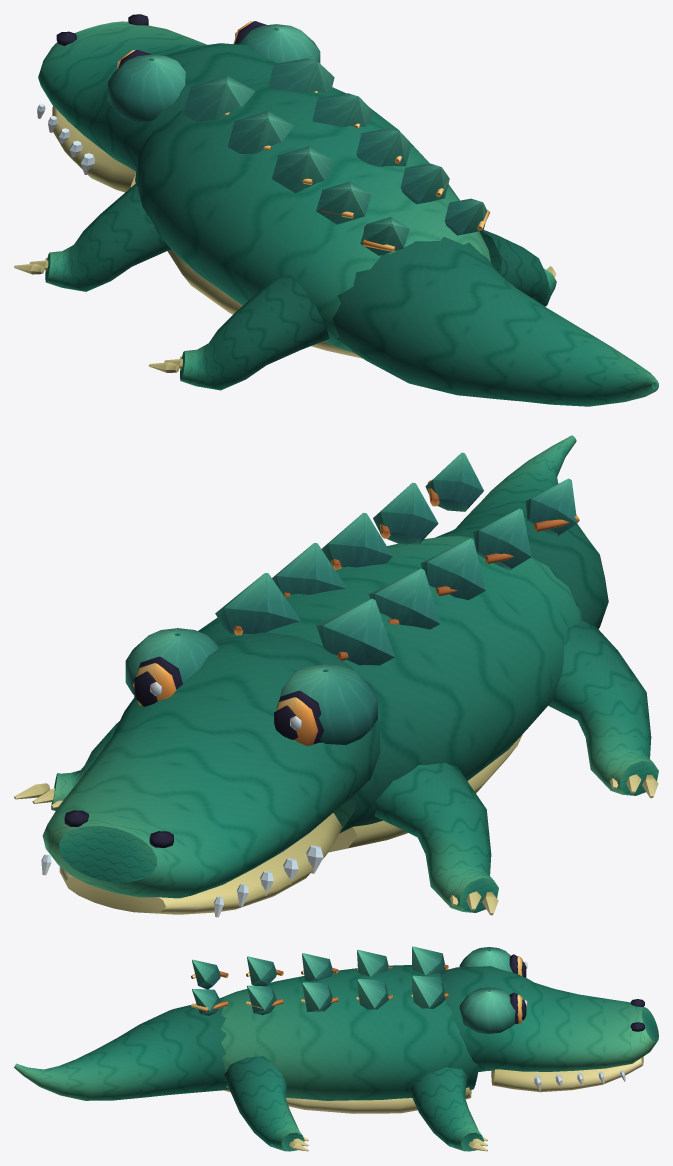
File: C146_Crocodilo_de_Jade.glb
3 views of the same model, one above another, from view 1: azimuth 30°, elevation 25°; view 2: azimuth 150°, elevation 25°; view 3: azimuth 270°, elevation 25° (orthographic). The views are drawn at different scales.
Parts seen in each view (by area): view 1: Body, Tail, Head, Legs, Shell, Claws, Extra_2, Extra_3; view 2: Head, Body, Shell, Legs, Tail, Extra_1, Claws, Extra_2, Extra_3; view 3: Body, Head, Tail, Legs, Shell, Extra_1, Extra_3, Claws, Extra_2.
Boxes of the visible parts, bbox=[...] form: Body: bbox=[135, 81, 490, 358]; Tail: bbox=[332, 237, 658, 406]; Head: bbox=[38, 14, 320, 192]; Legs: bbox=[45, 183, 556, 390]; Shell: bbox=[183, 58, 487, 255]; Claws: bbox=[14, 257, 556, 372]; Extra_2: bbox=[37, 103, 94, 174]; Extra_3: bbox=[224, 91, 490, 251]; Head: bbox=[42, 628, 380, 914]; Body: bbox=[198, 536, 581, 852]; Shell: bbox=[215, 452, 577, 665]; Legs: bbox=[51, 621, 658, 912]; Tail: bbox=[435, 435, 608, 628]; Extra_1: bbox=[133, 656, 324, 745]; Claws: bbox=[14, 774, 658, 915]; Extra_2: bbox=[41, 845, 323, 917]; Extra_3: bbox=[233, 480, 579, 660]; Body: bbox=[220, 965, 479, 1113]; Head: bbox=[440, 947, 658, 1092]; Tail: bbox=[14, 998, 229, 1100]; Legs: bbox=[224, 1056, 483, 1151]; Shell: bbox=[192, 946, 445, 1015]; Extra_1: bbox=[509, 954, 527, 1023]; Extra_3: bbox=[191, 964, 448, 1011]; Claws: bbox=[289, 1136, 487, 1151]; Extra_2: bbox=[534, 1070, 625, 1090].
Bounding box in the file's own units: 0.4233 × 0.2048 × 0.8792.
1 material, 1 textured.
